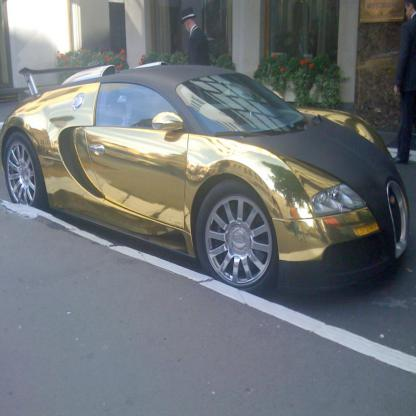Car: (0, 61, 410, 295)
